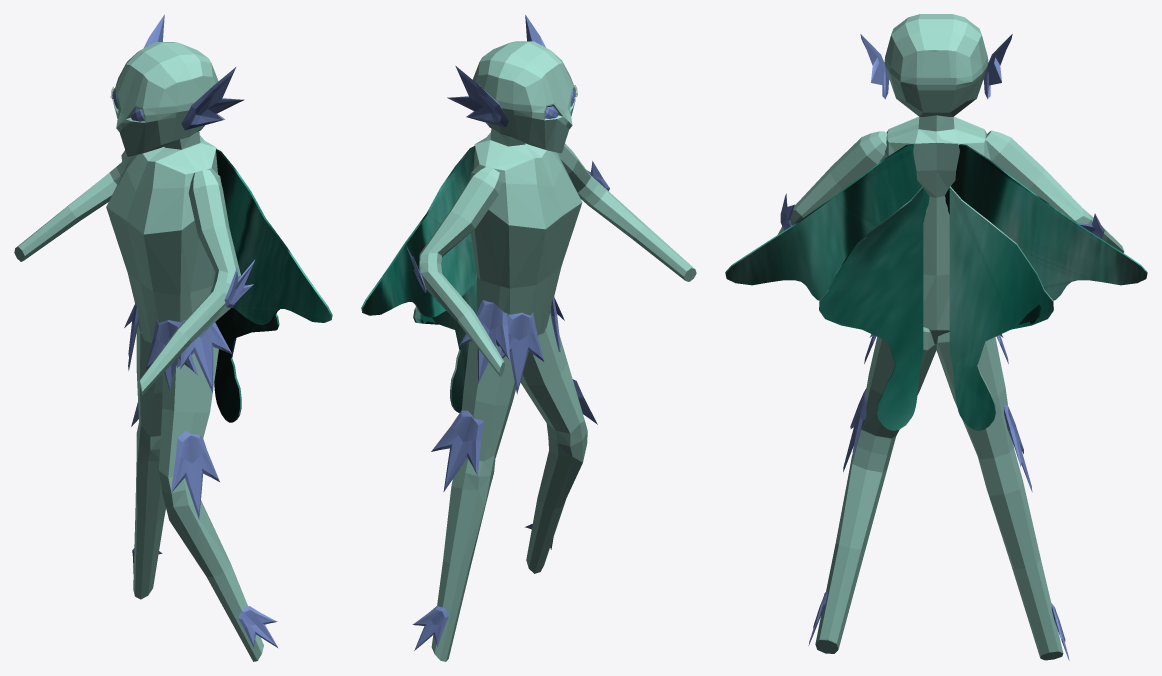
Rendered from NYMPH_BASE_proto.obj.
3 views of the same model, side by side, from view 1: azimuth 30°, elevation 25°; view 2: azimuth 150°, elevation 25°; view 3: azimuth 270°, elevation 25° (orthographic). The views are drawn at different scales.
Parts seen in each view (by area): view 1: Cube; view 2: Cube; view 3: Cube.
Boxes of the visible parts, <box> form: Cube: <box>14,14,332,661</box>; Cube: <box>361,15,696,661</box>; Cube: <box>725,14,1147,660</box>.
Size of the model in its own units: 1.67 by 5.65 by 3.42.
1 material, 1 textured.
